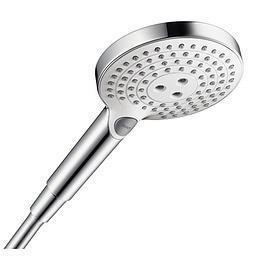Ducha: (11, 10, 241, 242)
